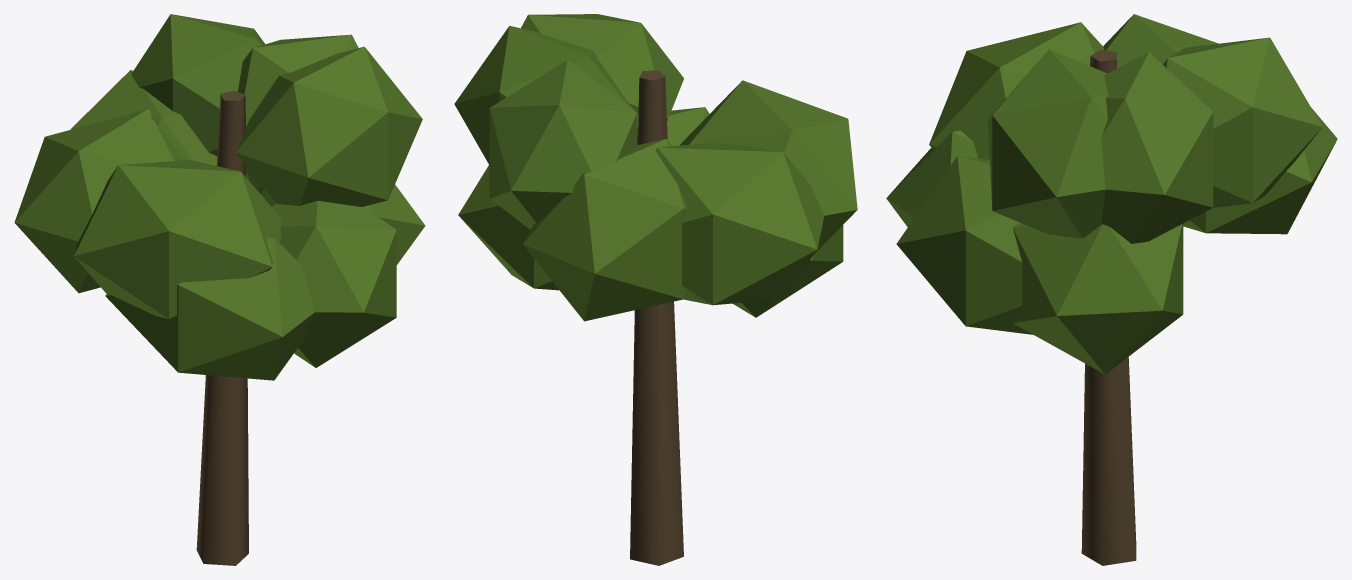
The picture shows the model from 3 angles, left to right: view 1: azimuth 30°, elevation 25°; view 2: azimuth 150°, elevation 25°; view 3: azimuth 270°, elevation 25°; orthographic projection. The views are drawn at different scales.
Visible parts, largest first — view 1: oak-leaf; view 2: oak-leaf; view 3: oak-leaf.
Part boxes in pixels (x1,y1,x2,y2): oak-leaf: (14,14,425,565); oak-leaf: (454,14,857,565); oak-leaf: (886,14,1337,565).
Size of the model in its own units: 6.31 by 8.1 by 6.28.
